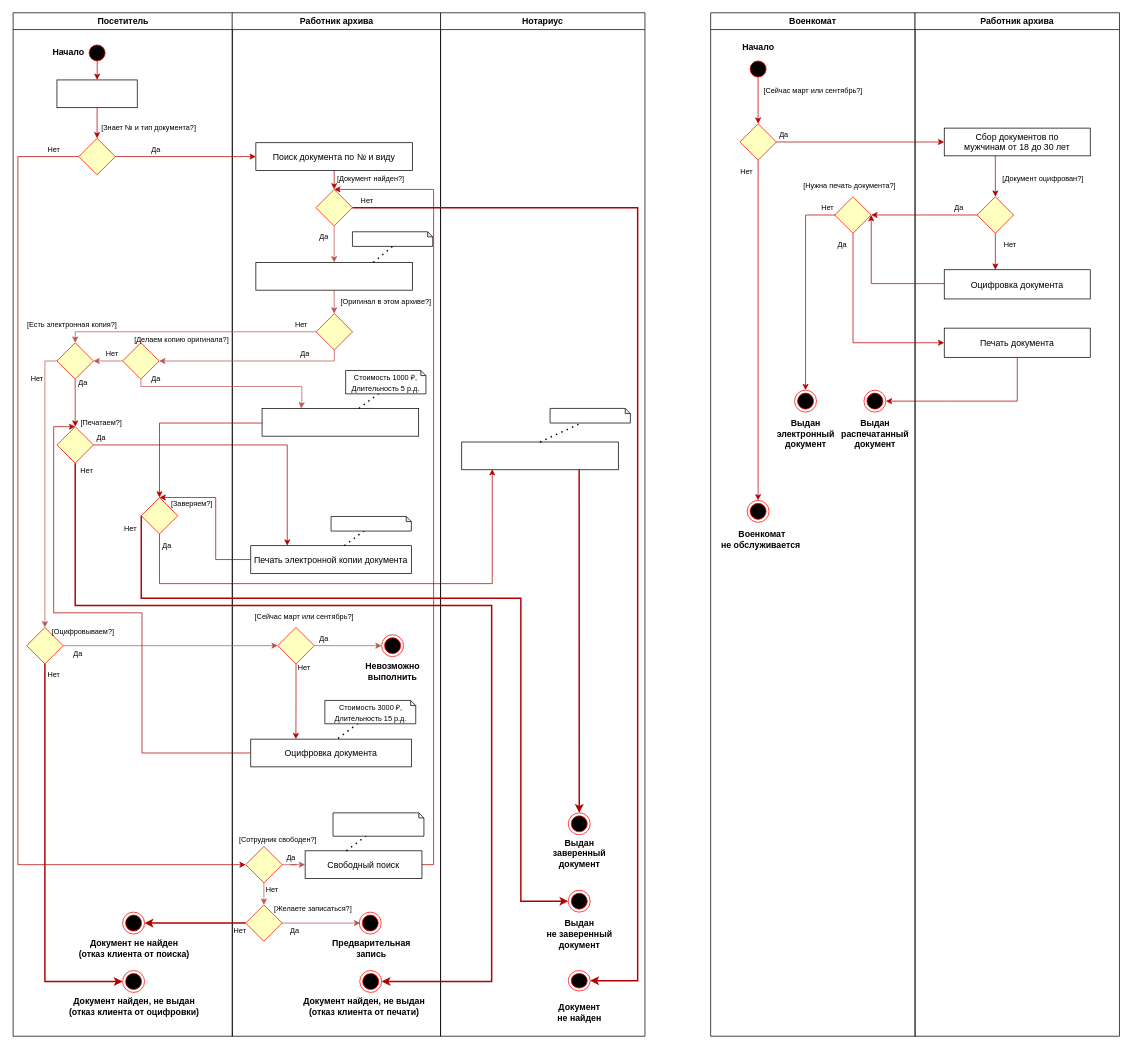
This 1132x1049 diagram has some shape labels left out. Each missing label, with the centre of its shape:
"Выдача атрибутов документа" goes at (x=333, y=276).
"Заверение документа" goes at (x=539, y=455).
"Печать копии оригинала документа" goes at (x=340, y=422).
"Поиск документа" goes at (x=96, y=93).
"Стоимость 100 ₽" goes at (x=392, y=238).
"Стоимость 1000 ₽ за 45 минут" goes at (x=378, y=824).
"Стоимость 1500 ₽" goes at (x=589, y=415).
"Стоимость 300 ₽" goes at (x=370, y=523).
